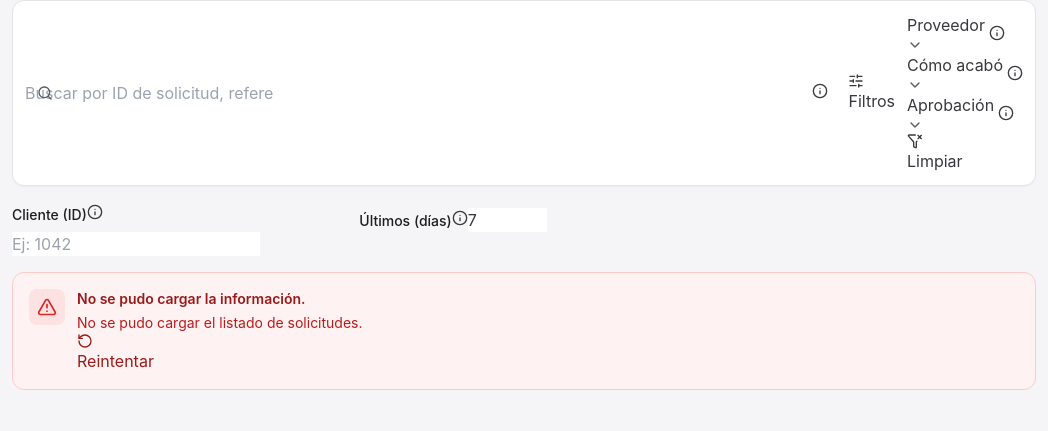
Test: Solicitudes a proveedores (P2) › si falla ofrece reintentar
The width and height of the screenshot is (1048, 431).
Click the button "Reintentar".
click(115, 353)  # box [77,333,154,373]
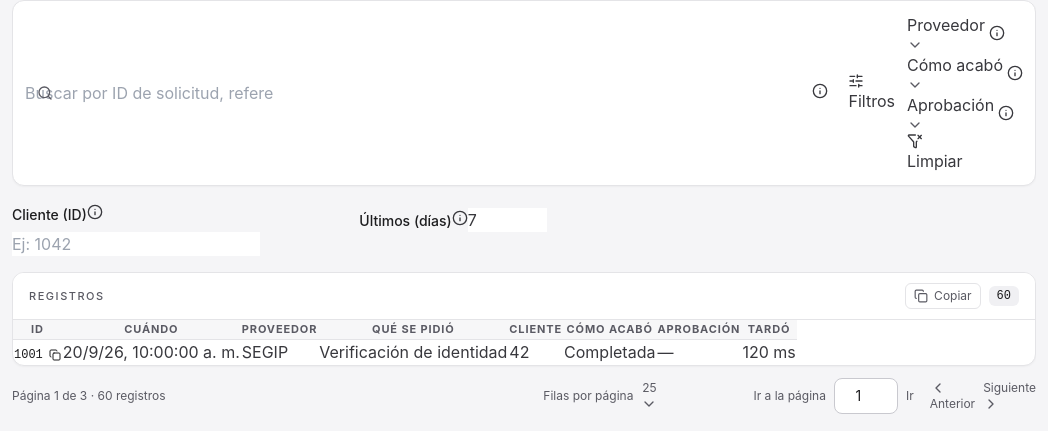
Result: the button "1001" is shown at [14,346,61,362]
